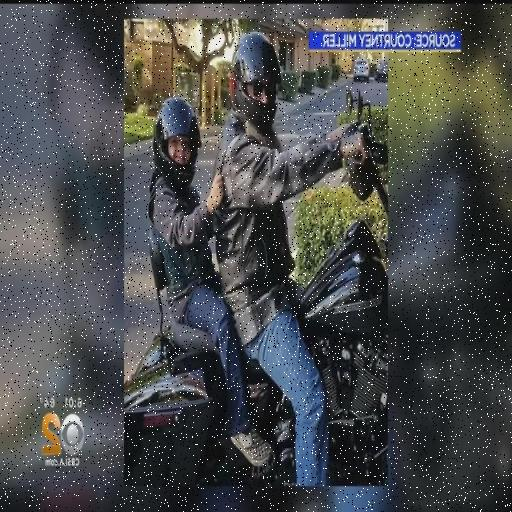Helmet: (212, 33, 290, 124), (148, 76, 206, 187)
Motor: (114, 271, 392, 485)
